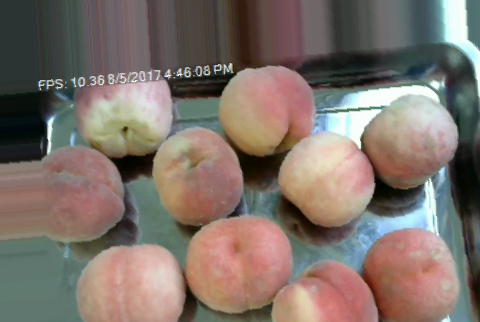Peach: (185, 214, 291, 312), (275, 131, 375, 229), (151, 124, 244, 225), (360, 92, 457, 188), (363, 228, 460, 320), (75, 68, 175, 156), (75, 243, 186, 322), (217, 66, 314, 154), (42, 144, 123, 241), (270, 259, 378, 322)
